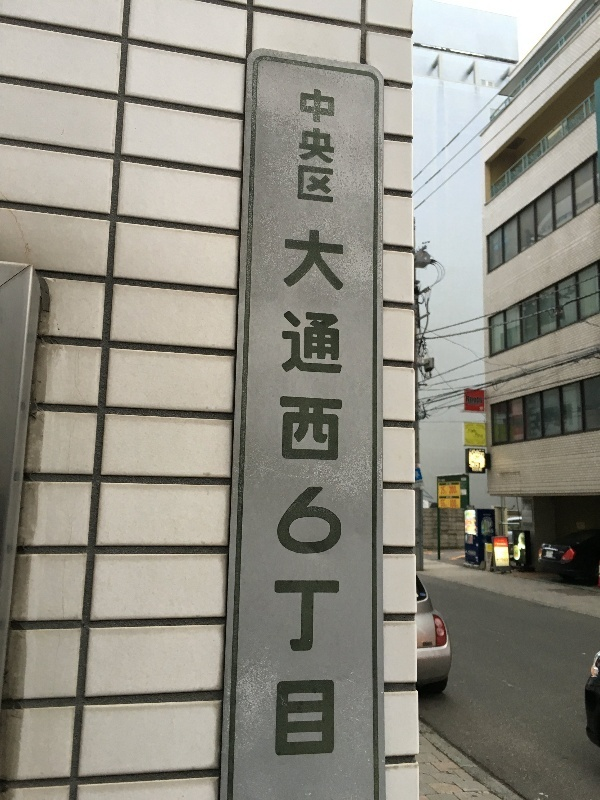text: (289, 229, 304, 758), (305, 229, 320, 758), (321, 229, 336, 758), (337, 229, 349, 758), (283, 229, 288, 758), (305, 89, 320, 203), (321, 89, 336, 203), (301, 89, 304, 203), (469, 450, 480, 473), (467, 429, 480, 439), (466, 396, 480, 405), (449, 486, 464, 494), (451, 500, 464, 508), (481, 450, 485, 473), (546, 552, 560, 557), (441, 486, 448, 494), (441, 500, 448, 507), (417, 470, 421, 479), (481, 429, 483, 439), (481, 396, 482, 405), (415, 470, 416, 479)
